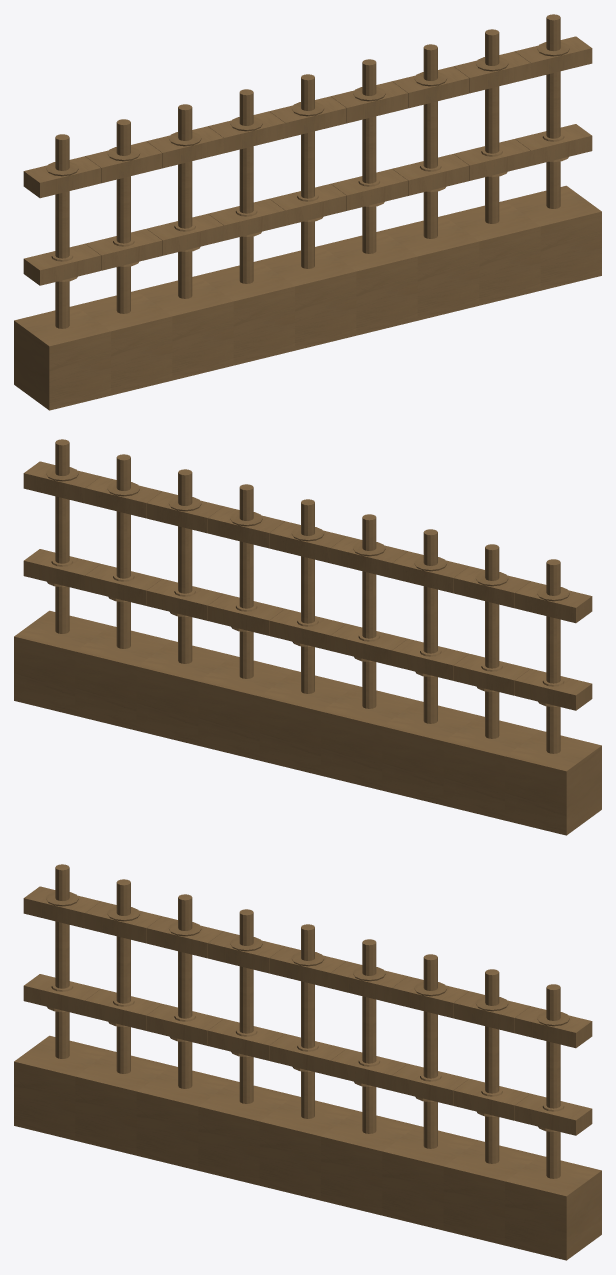
The model's file is Railingx9.glb.
3 views of the same model, one above another, from view 1: azimuth 30°, elevation 25°; view 2: azimuth 150°, elevation 25°; view 3: azimuth 330°, elevation 25° (orthographic).
Visible parts, largest first — view 1: Railingx9; view 2: Railingx9; view 3: Railingx9.
Part boxes in pixels (x1,y1,x2,y2): Railingx9: (14,14,601,410); Railingx9: (14,439,601,835); Railingx9: (14,864,601,1260).
Bounding box in the file's own units: 18 × 7.88 × 2.
Materials: 1 (1 with a texture image).
